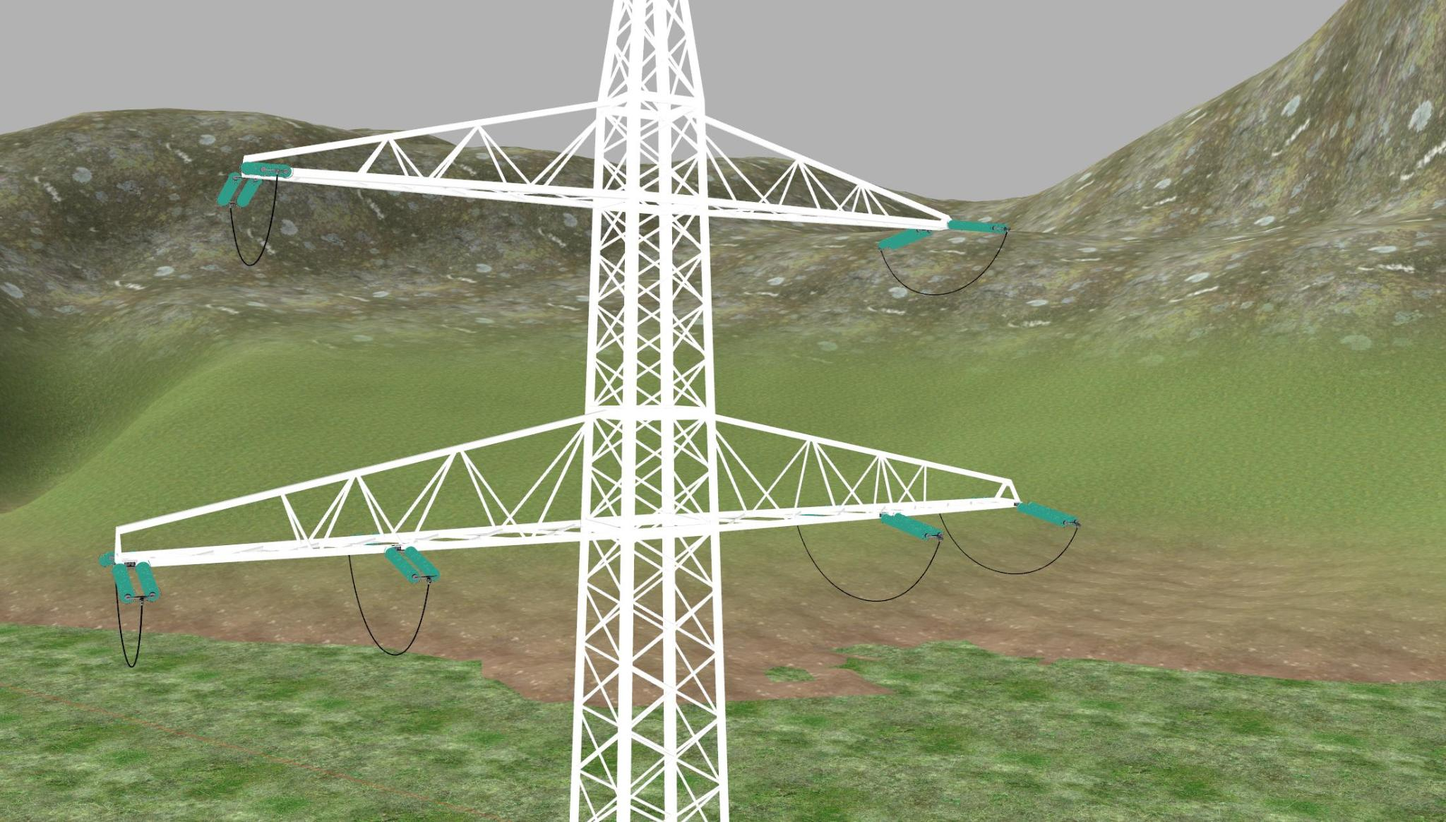tower: (102, 0, 1021, 822)
